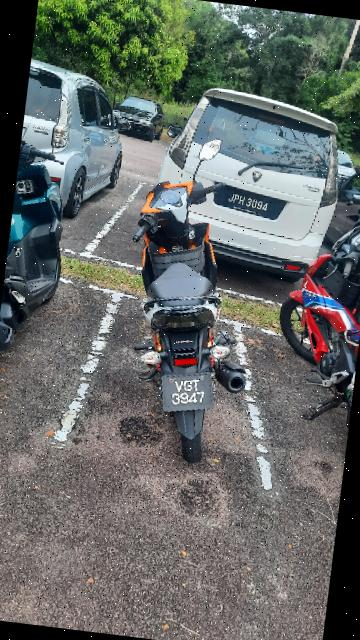License_Plate: (155, 362, 220, 418)
car: (144, 60, 356, 290), (14, 47, 146, 224), (111, 88, 168, 140)
motorcycle: (93, 124, 302, 484), (1, 111, 89, 373), (273, 200, 360, 436)
